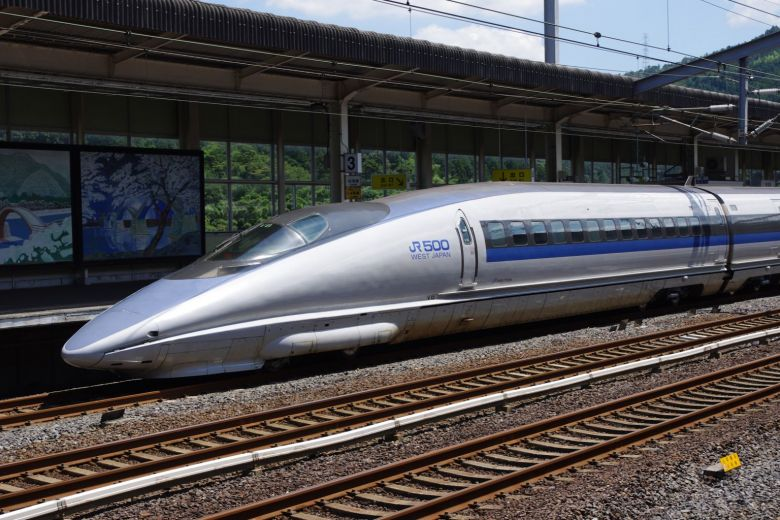train: (75, 162, 776, 395)
